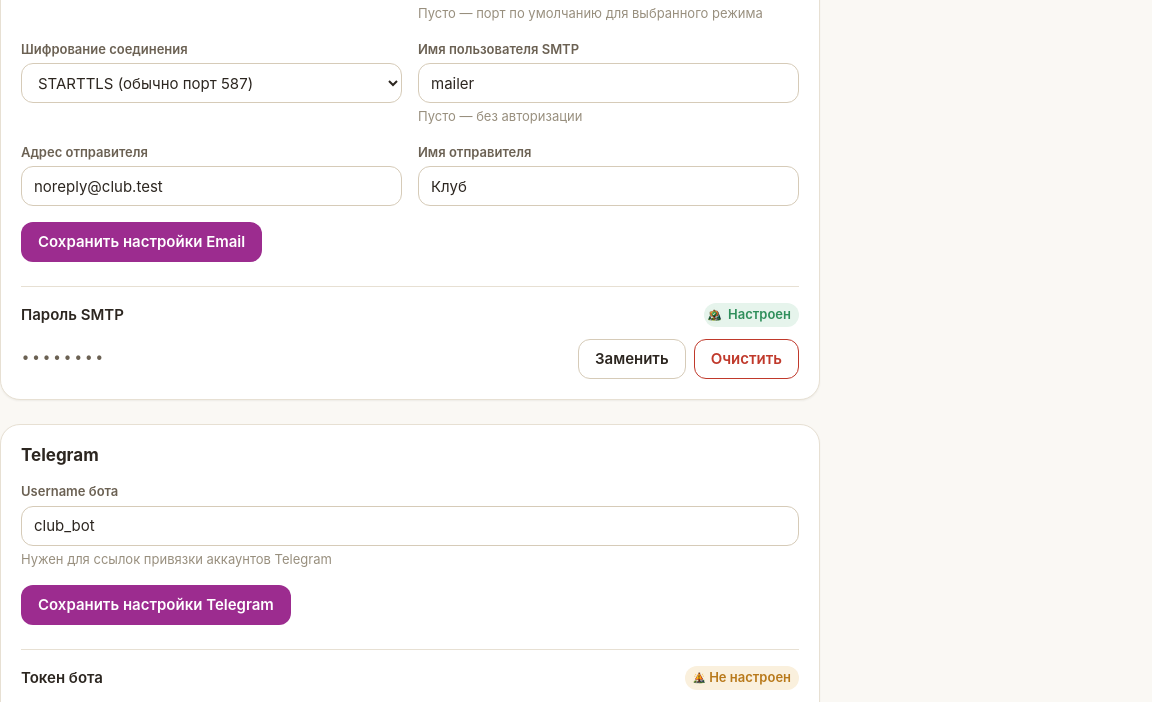
Integrations and write-only secrets › replaces a secret only through the explicit action and clears the input
(page scrolled)
Click the button "Заменить". click: coordinates (632, 359)
box: [578,339,686,379]
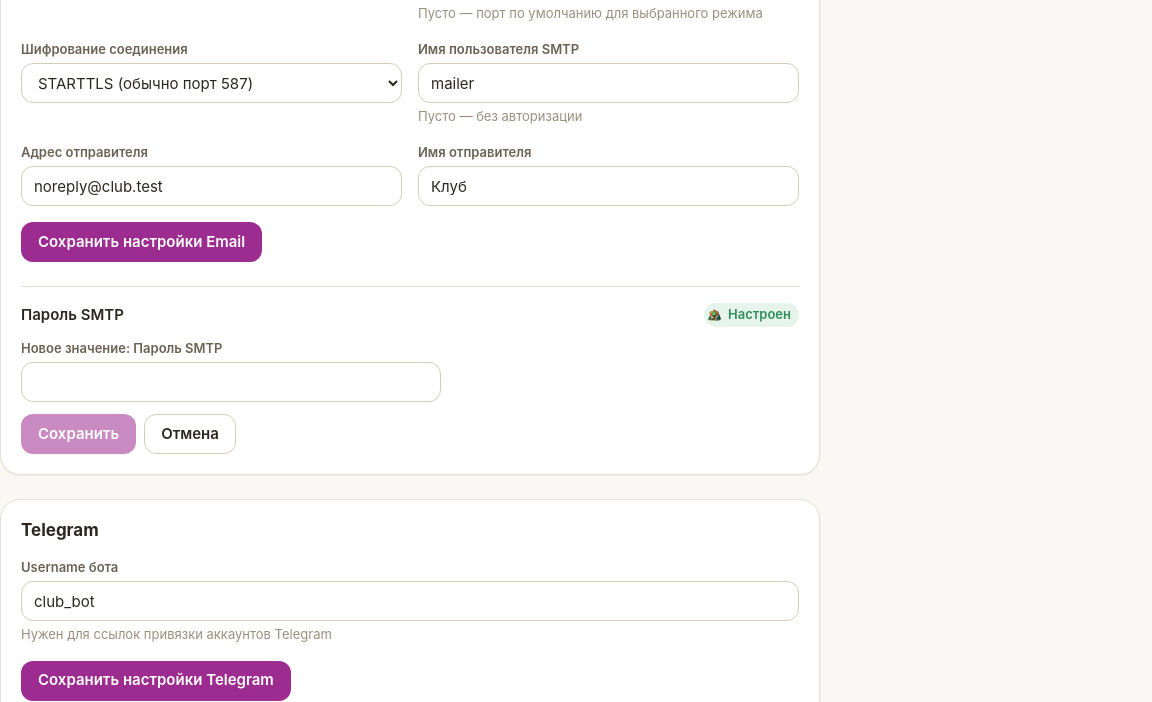
Check: the password field labelled "Новое значение: Пароль SMTP" is empty
Type "Sm7p-Pa55w0rd-UNIQUE" into the password field labelled "Новое значение: Пароль SMTP". click: coordinates (231, 382)
box: [21,362,441,402]
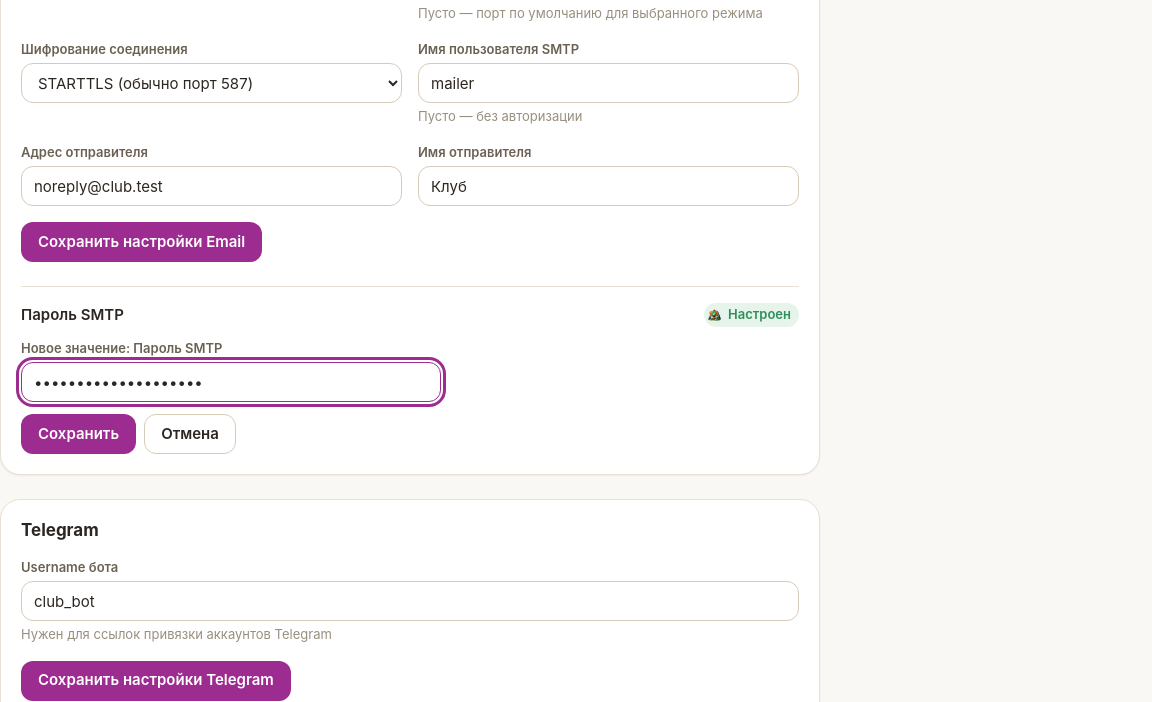
Click the button "Сохранить". click: coordinates (79, 434)
box: [21,414,136,454]
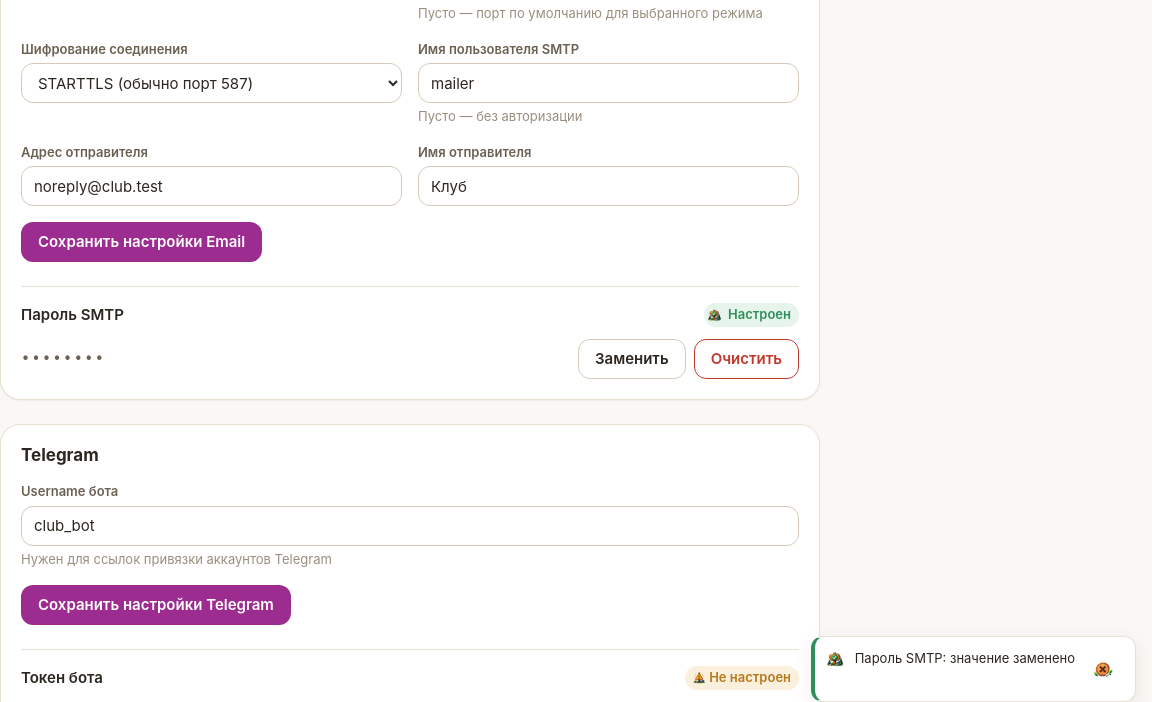
Check: the label labelled "Новое значение" is gone
